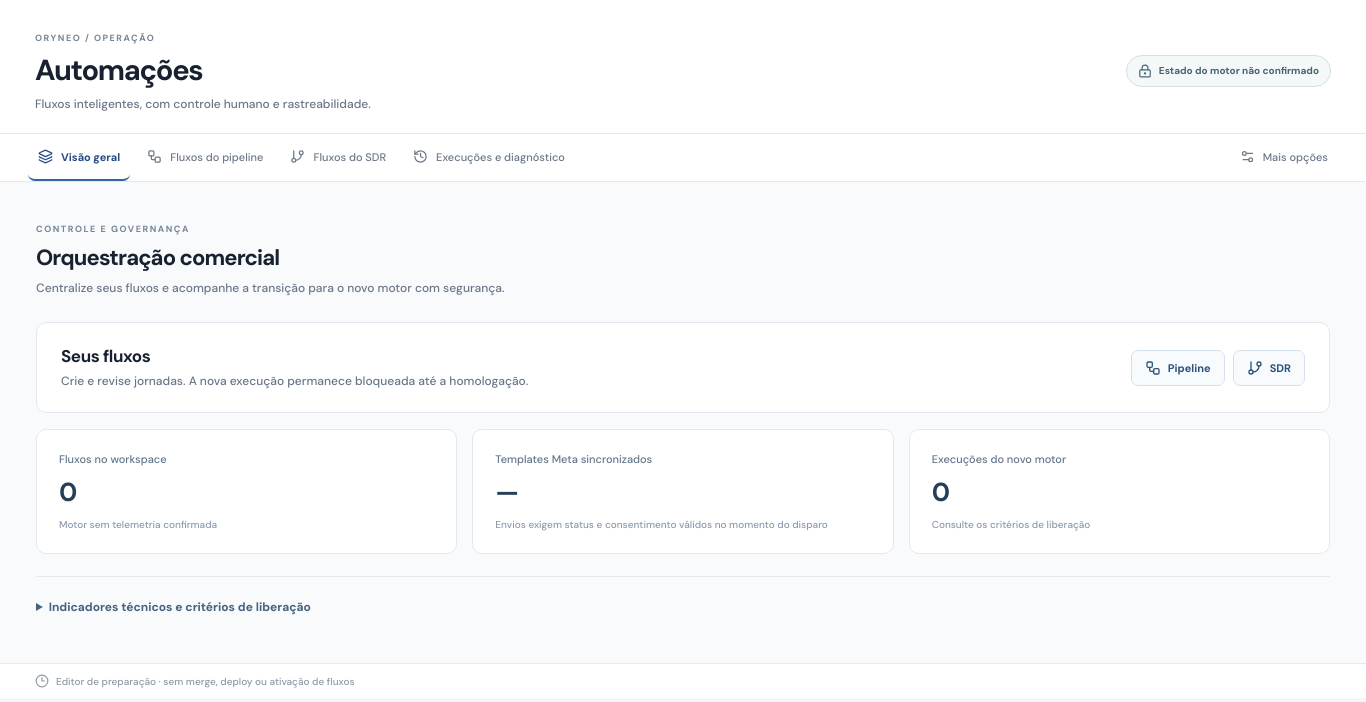
Scenario: Automações: interação visual isolada › insere condição conectada pelo menu de botão direito do nó
The image size is (1366, 702).
Click the button "Fluxos do pipeline" at (205, 158), box [137,134,273,181]
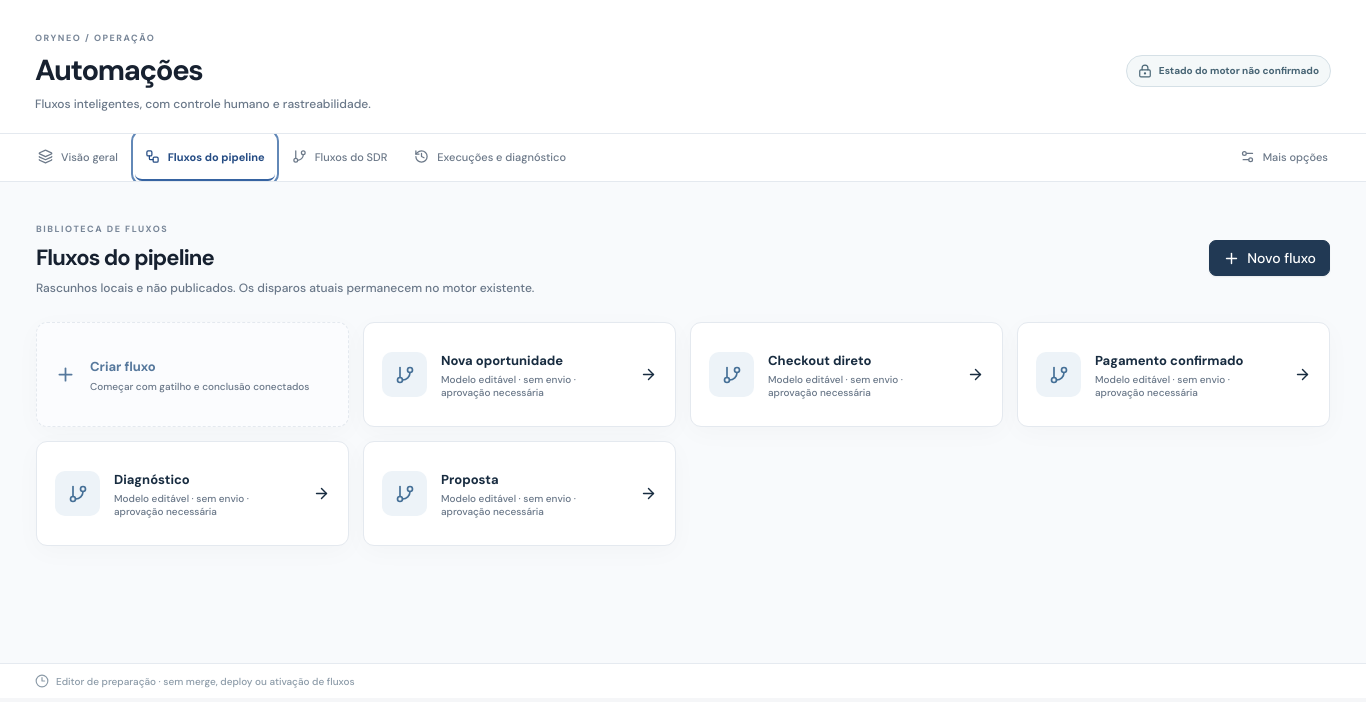
Click the button "Novo fluxo" at (1270, 258), box [1209,240,1330,276]
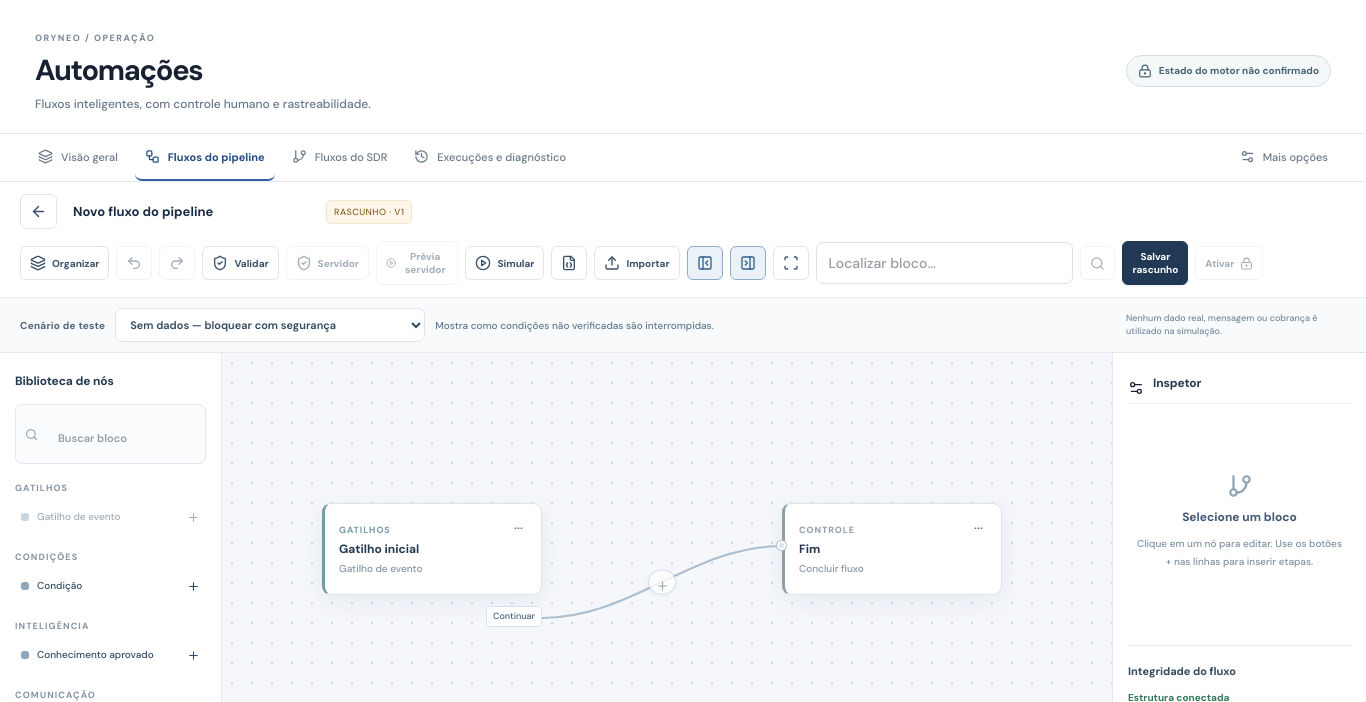
Right-click the button with aria-label "Editar nó Gatilho inicial" at (432, 549), box [322,503,542,595]
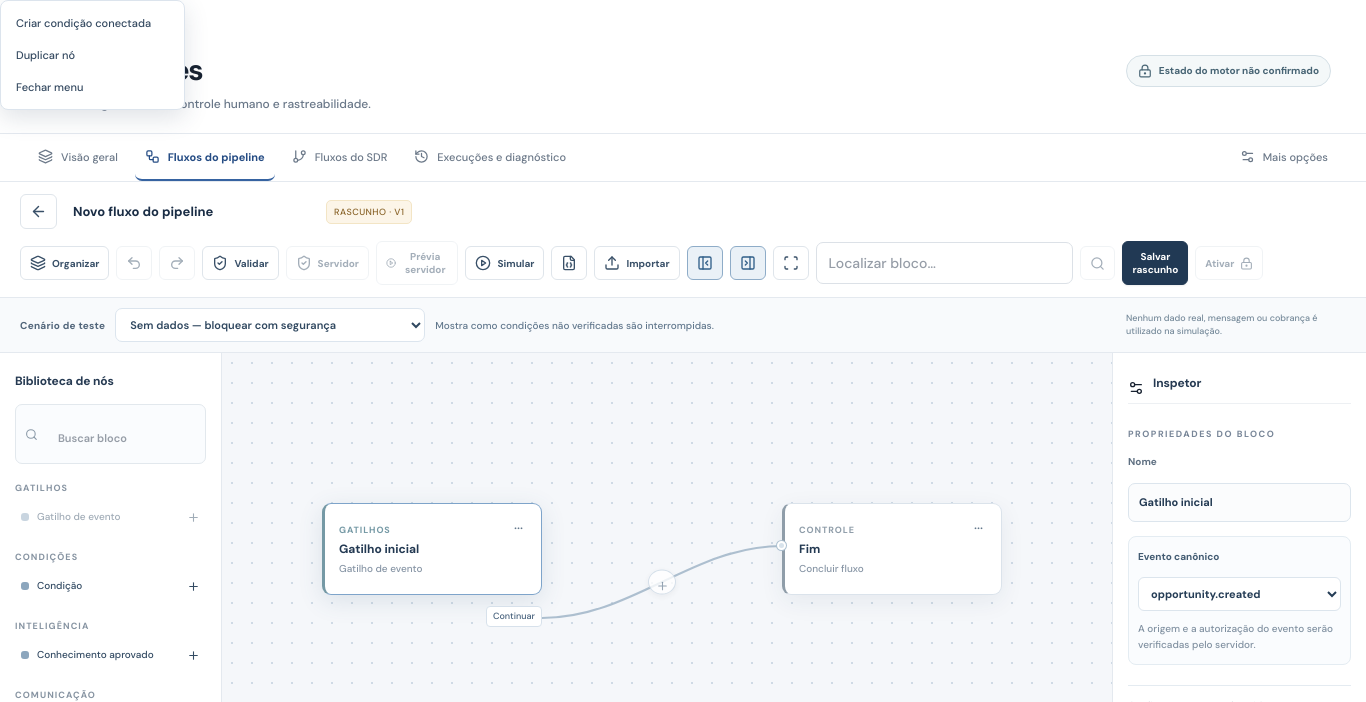
Click the button "Criar condição conectada" at (92, 23), box [7,7,178,39]
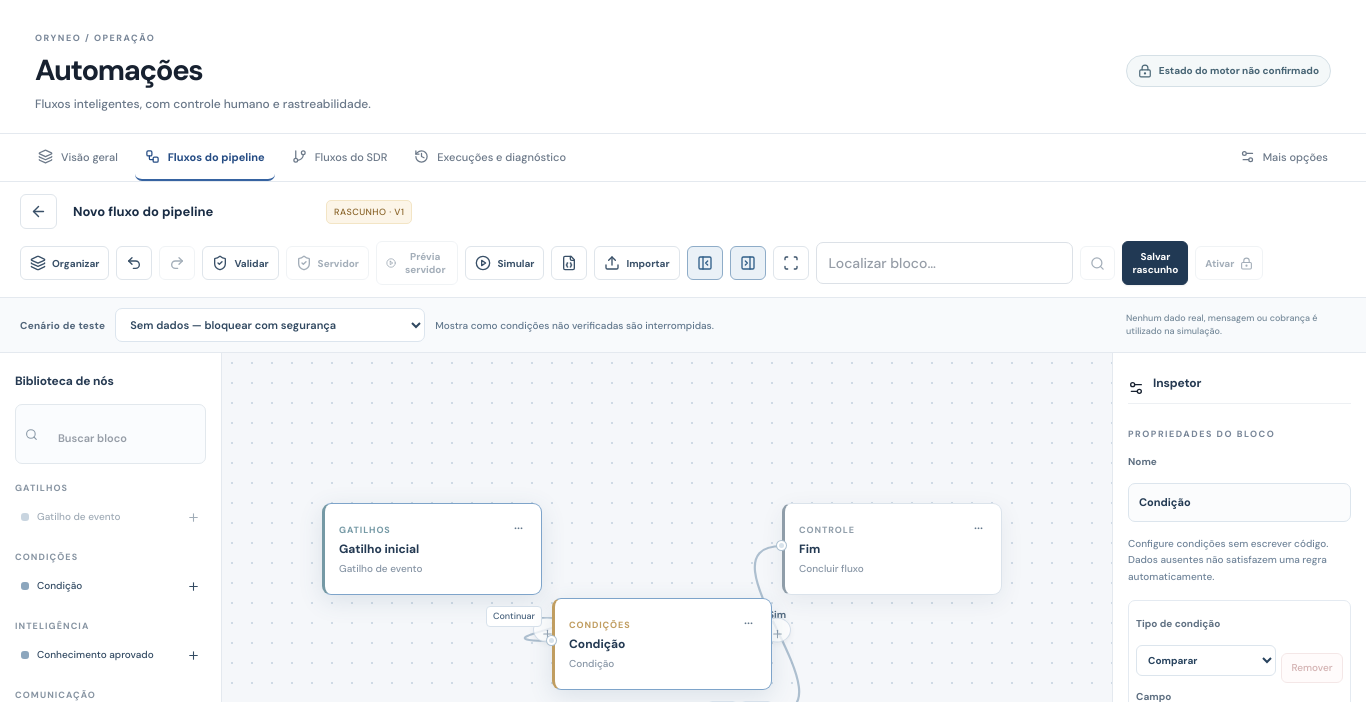
Expected: the button titled "Publicação disponível após engine homologada" is disabled, [1195,246,1263,280]
Expected: the button with aria-label "Editar nó Condição" is shown, [552,598,772,690]
